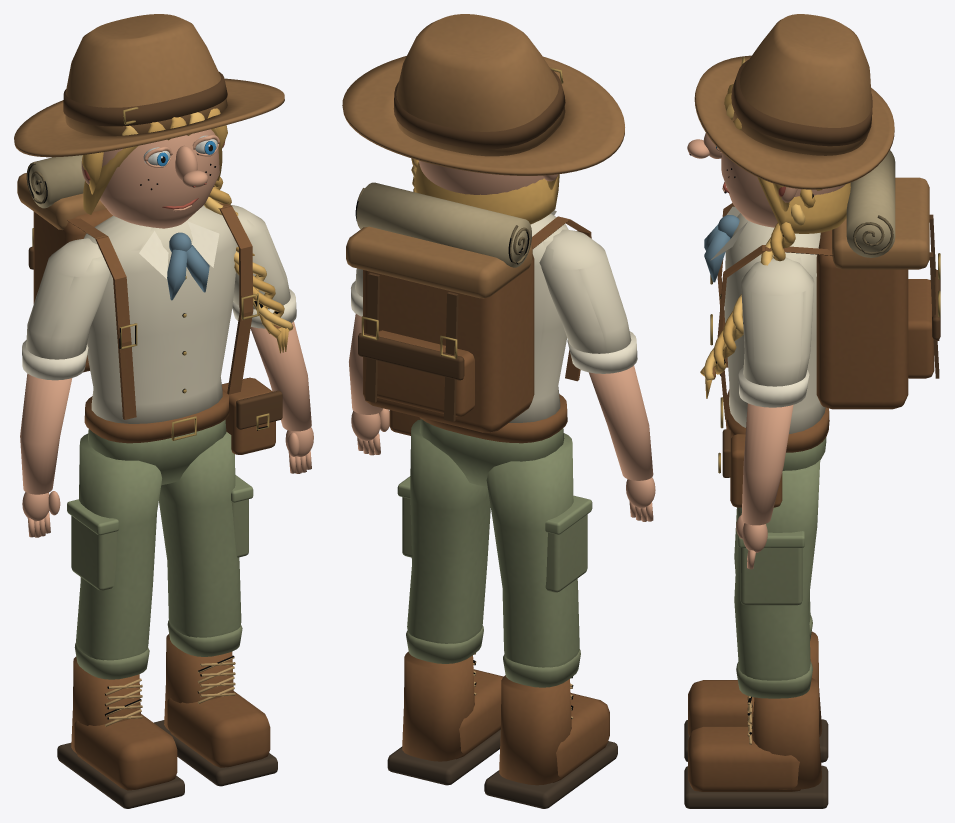
File: character-master.glb
3 views of the same model, side by side, from view 1: azimuth 30°, elevation 25°; view 2: azimuth 150°, elevation 25°; view 3: azimuth 270°, elevation 25° (orthographic). The views are drawn at different scales.
Visible parts, largest first — view 1: CHR-GIRL-01.001; view 2: CHR-GIRL-01.001; view 3: CHR-GIRL-01.001.
Part boxes in pixels (x1,y1,x2,y2): CHR-GIRL-01.001: [14, 14, 313, 808]; CHR-GIRL-01.001: [342, 14, 655, 808]; CHR-GIRL-01.001: [684, 14, 940, 808].
Bounding box in the file's own units: 0.56 × 1.34 × 0.4202.
Materials: 22 (22 with a texture image).
